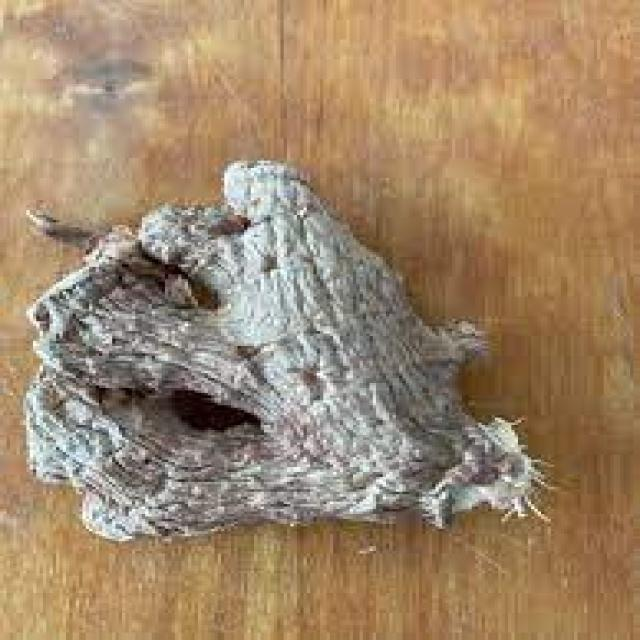ginger: (30, 166, 568, 532)
